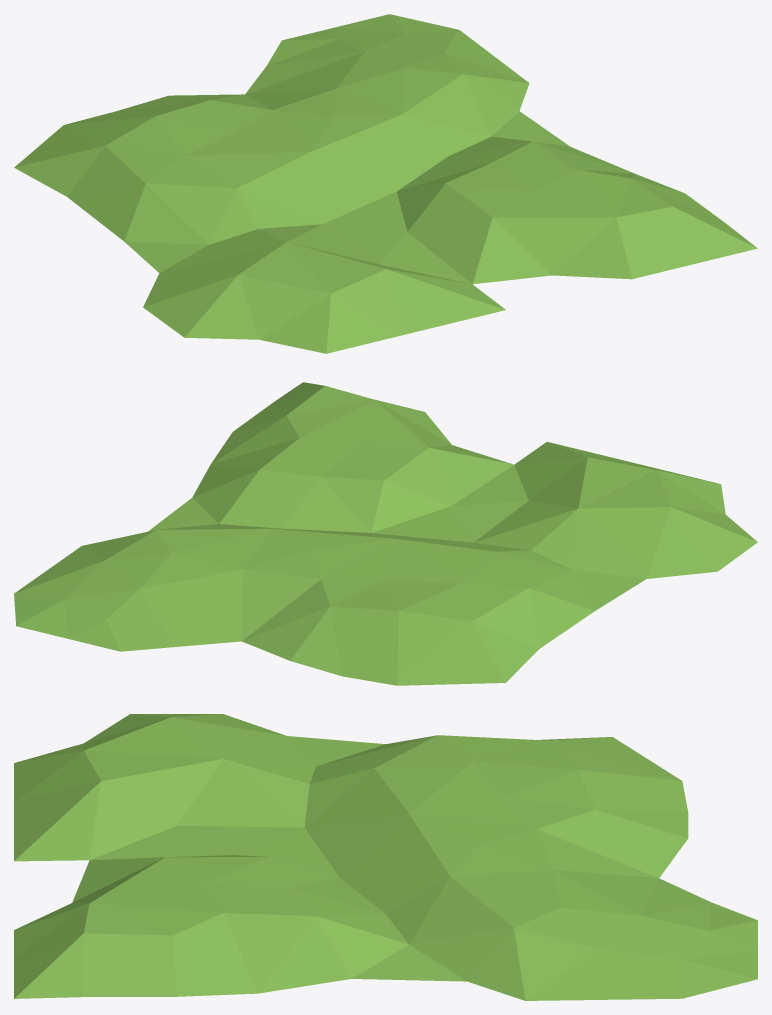
File: MT_Mountain_S_c_23.fbx
3 renders of one model, top to bottom at view 1: azimuth 30°, elevation 25°; view 2: azimuth 150°, elevation 25°; view 3: azimuth 270°, elevation 25°, orthographic. The views are drawn at different scales.
Visible parts, largest first — view 1: MT_Mountain_S_c_23; view 2: MT_Mountain_S_c_23; view 3: MT_Mountain_S_c_23.
Part boxes in pixels (left/top/right/bottom): MT_Mountain_S_c_23: left=14, top=14, right=757, bottom=353; MT_Mountain_S_c_23: left=14, top=382, right=757, bottom=685; MT_Mountain_S_c_23: left=14, top=714, right=757, bottom=1000.
Size of the model in its own units: 2266 by 148 by 2500.
